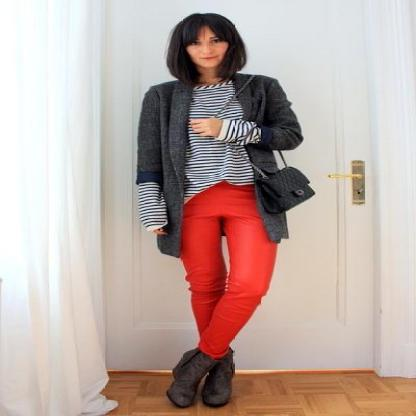bag: (237, 166, 314, 214)
jacket: (136, 75, 303, 257)
pants: (179, 180, 280, 357)
shirt: (126, 82, 256, 234)
shoe: (166, 348, 234, 408)
